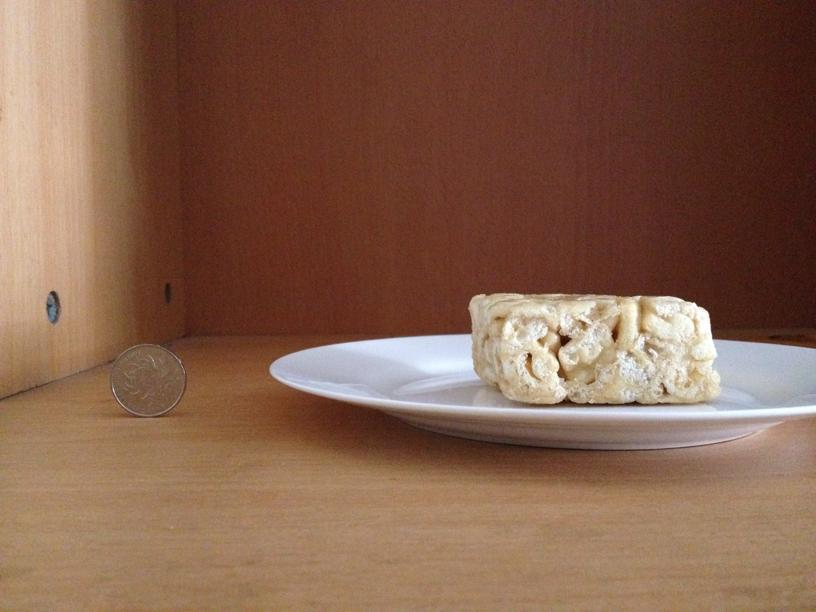coin: (113, 344, 188, 413)
sachima: (466, 292, 722, 402)
